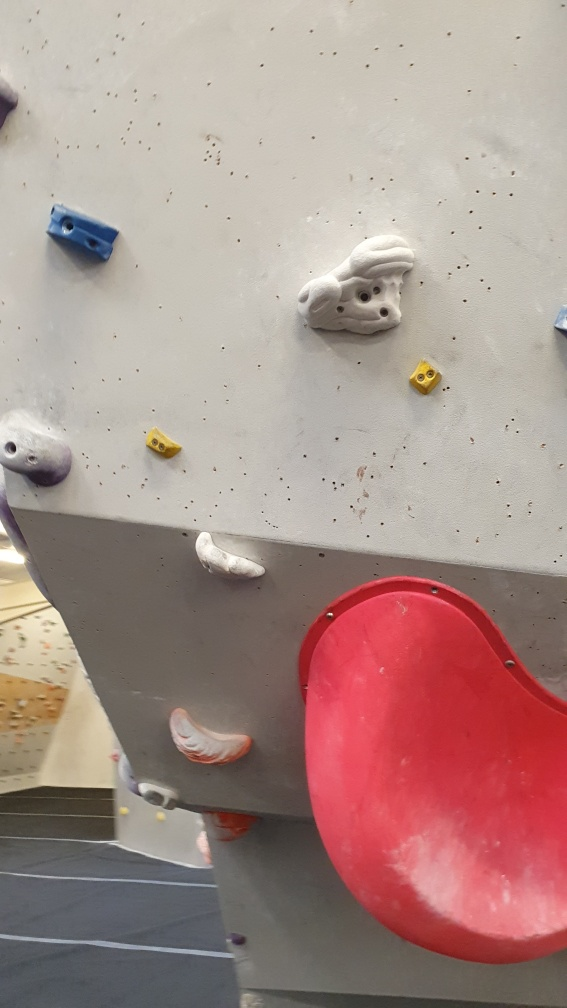Crimp: (139, 421, 185, 462)
Jug: (295, 232, 418, 344), (164, 695, 258, 768), (193, 524, 270, 584)
Pinch: (36, 195, 121, 267), (405, 354, 447, 401)
Sloper: (1, 412, 80, 489)
